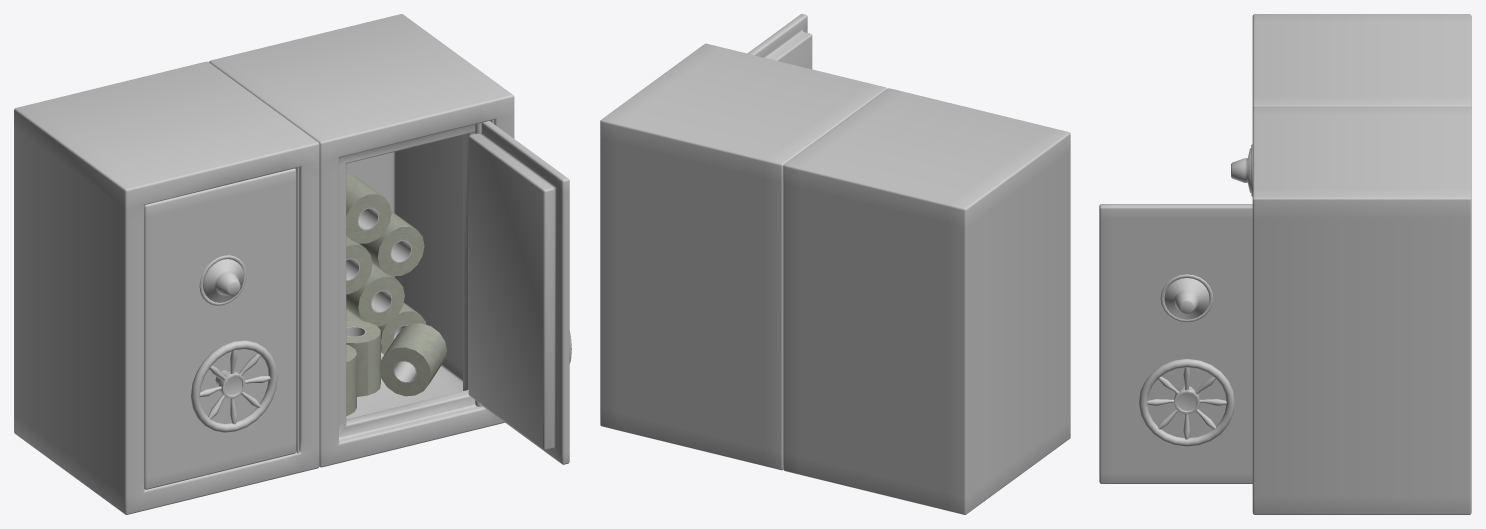
3 renders of one model, left to right at view 1: azimuth 30°, elevation 25°; view 2: azimuth 150°, elevation 25°; view 3: azimuth 270°, elevation 25°, orthographic. The views are drawn at different scales.
Visible parts, largest first — view 1: safe.001_19, safe_15, door.001_18, door_2, handle.001_16, toiletpaper-12_14, toiletpaper-09_11, toiletpaper-08_10, toiletpaper-04_6, toiletpaper-11_13, lock.001_17, toiletpaper-07_9 (+2 smaller); view 2: safe.001_19, safe_15, door_2; view 3: safe_15, door_2, safe.001_19, handle_0, lock_1, lock.001_17.
Boxes of the visible parts, <box> form: safe.001_19: <box>14,61,319,514</box>; safe_15: <box>209,14,514,467</box>; door.001_18: <box>144,168,296,489</box>; door_2: <box>468,121,569,464</box>; handle.001_16: <box>191,340,277,432</box>; toiletpaper-12_14: <box>379,323,446,396</box>; toiletpaper-09_11: <box>346,172,391,243</box>; toiletpaper-08_10: <box>360,211,424,276</box>; toiletpaper-04_6: <box>346,264,404,326</box>; toiletpaper-11_13: <box>346,320,380,396</box>; lock.001_17: <box>199,255,246,305</box>; toiletpaper-07_9: <box>346,236,372,294</box>; safe.001_19: <box>783,88,1070,514</box>; safe_15: <box>600,43,887,470</box>; door_2: <box>747,14,812,69</box>; safe_15: <box>1252,106,1471,514</box>; door_2: <box>1099,204,1252,483</box>; safe.001_19: <box>1252,14,1471,107</box>; handle_0: <box>1139,358,1234,446</box>; lock_1: <box>1160,274,1213,322</box>; lock.001_17: <box>1231,144,1252,196</box>.
Bounding box in the file's own units: 1 × 0.8 × 0.85.
